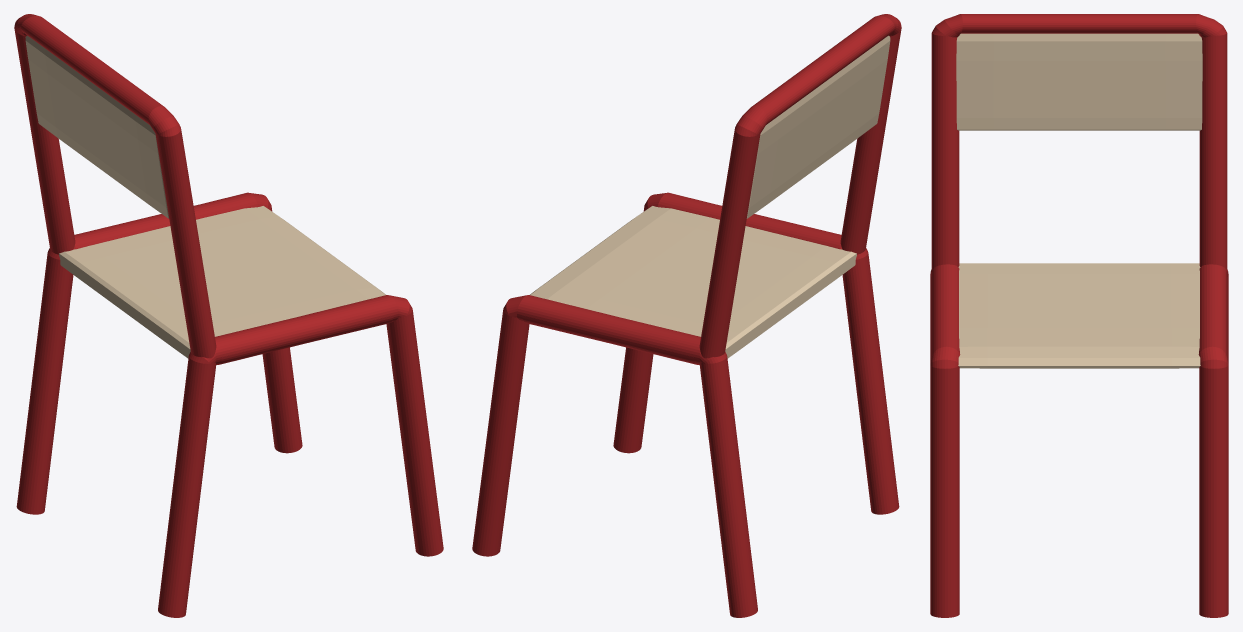
Rendered from Chaise.fbx.
3 renders of one model, left to right at view 1: azimuth 30°, elevation 25°; view 2: azimuth 150°, elevation 25°; view 3: azimuth 270°, elevation 25°, orthographic. The views are drawn at different scales.
Visible parts, largest first — view 1: chair; view 2: chair; view 3: chair.
Boxes of the visible parts, bbox=[...] form: chair: bbox=[14, 14, 443, 617]; chair: bbox=[472, 14, 901, 617]; chair: bbox=[930, 14, 1228, 617].
Size of the model in its own units: 643 by 1077 by 609.
